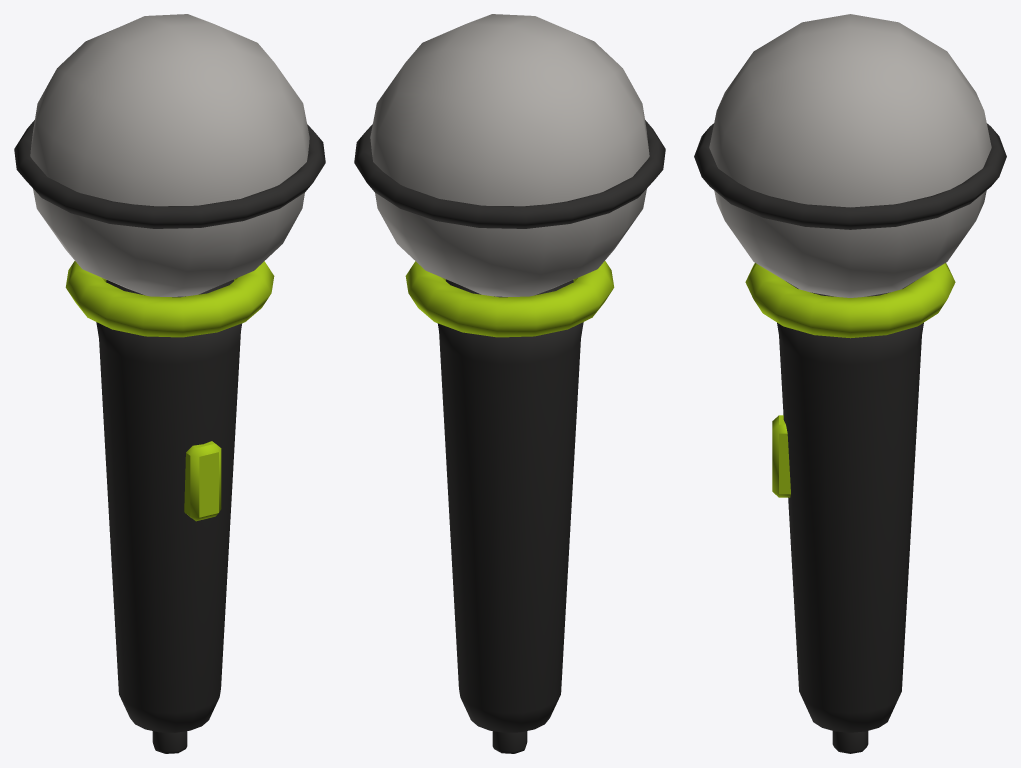
Rendered from microphone.glb.
3 renders of one model, left to right at view 1: azimuth 30°, elevation 25°; view 2: azimuth 150°, elevation 25°; view 3: azimuth 270°, elevation 25°, orthographic.
Visible parts, largest first — view 1: microphone; view 2: microphone; view 3: microphone.
Boxes of the visible parts, x1,y1,x2,y2 form: microphone: (14,14,325,753); microphone: (354,14,665,753); microphone: (694,14,1006,753).
Size of the model in its own units: 0.07 by 0.178 by 0.07.
